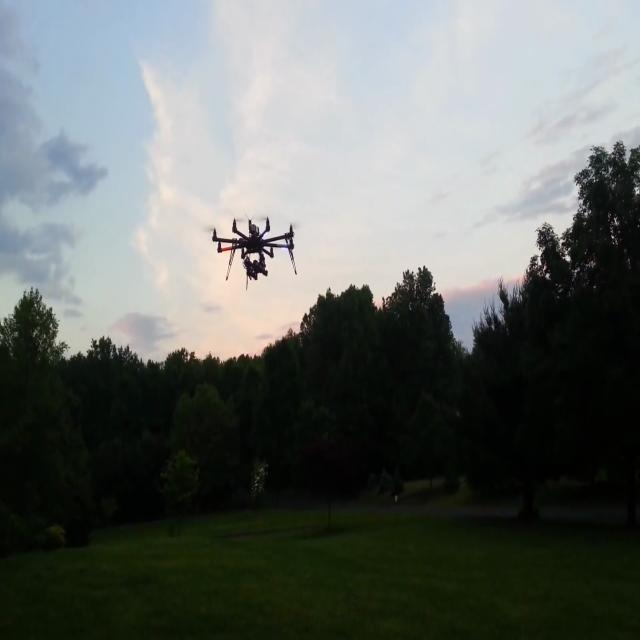drone: (206, 190, 307, 309)
